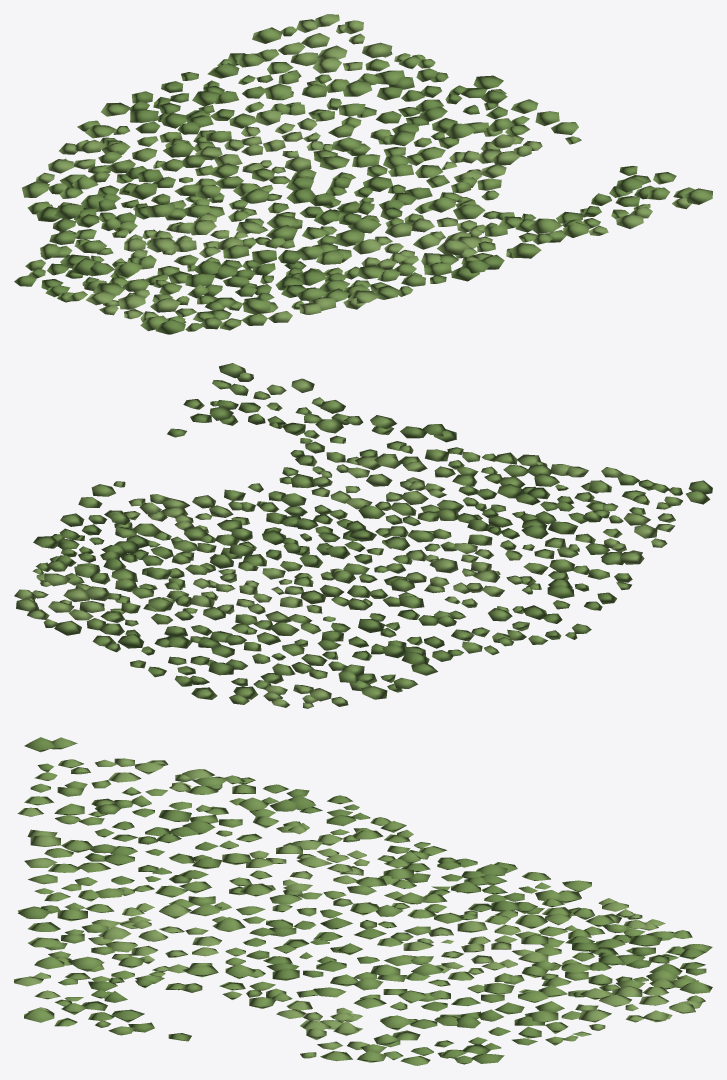
The model's file is canopy-1-4--2.glb.
3 views of the same model, one above another, from view 1: azimuth 30°, elevation 25°; view 2: azimuth 150°, elevation 25°; view 3: azimuth 270°, elevation 25° (orthographic). The views are drawn at different scales.
Size of the model in its own units: 515 by 82.5 by 520.
Materials: 1 (1 with a texture image).
